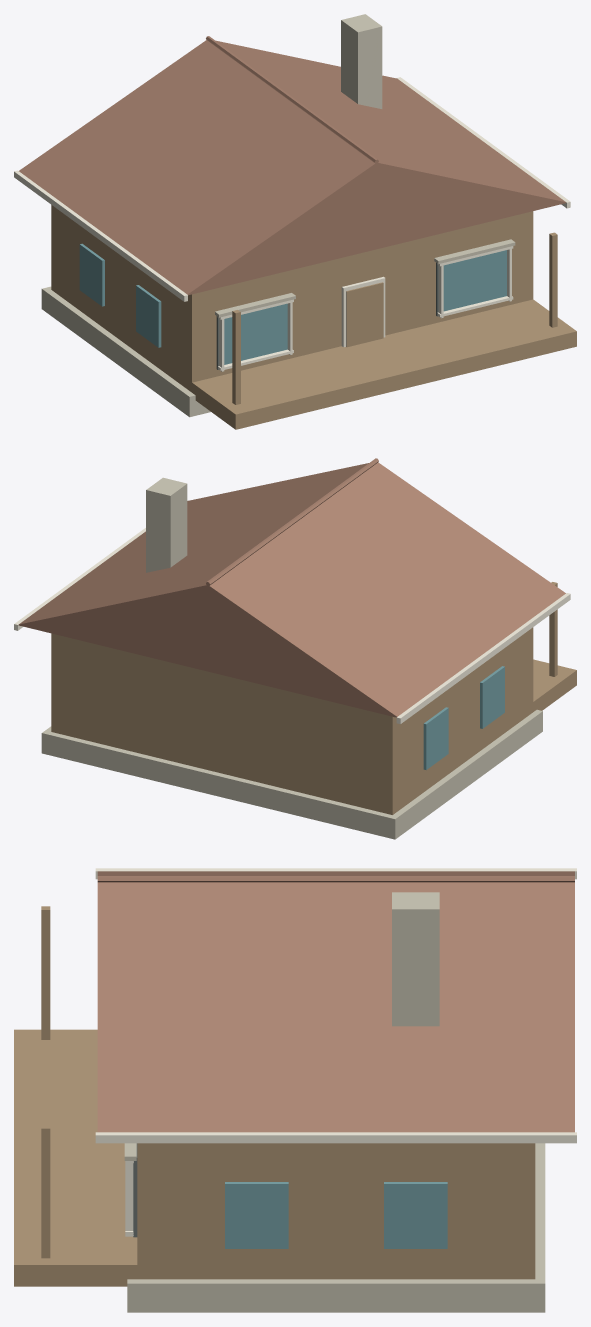
3 renders of one model, top to bottom at view 1: azimuth 30°, elevation 25°; view 2: azimuth 150°, elevation 25°; view 3: azimuth 270°, elevation 25°, orthographic. The views are drawn at different scales.
Bounding box in the file's own units: 15.86 × 9.9 × 14.15.
